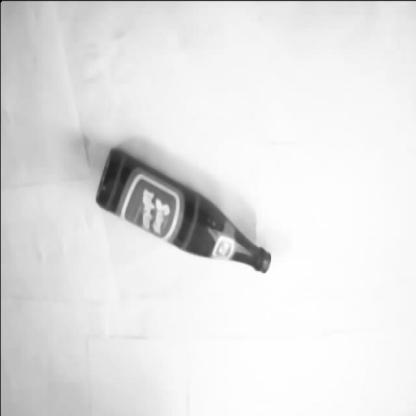Can: (94, 148, 272, 273)
